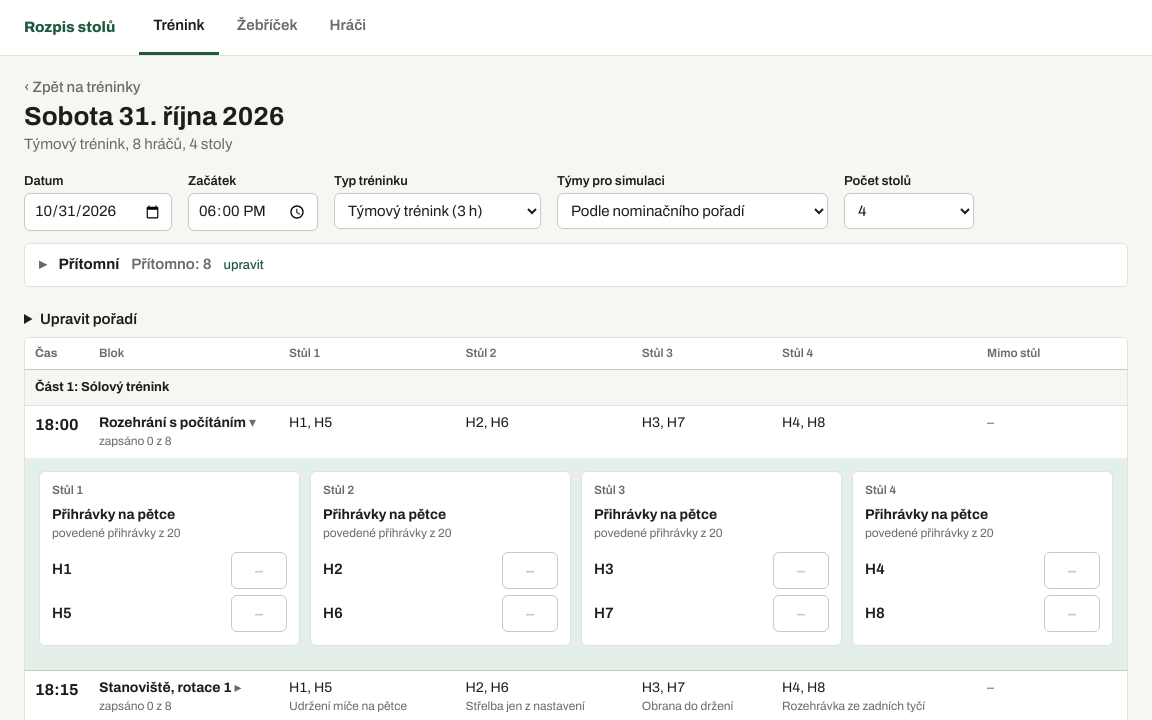
Test case: tabulka tréninku › nápověda je všude stejná a sbalená: jedna rozbalovací „Nápověda“ pod kartami
Click the button "Stanoviště, rotace 1" at (170, 688), box x1=99 y1=678 x2=242 y2=698
(page scrolled)
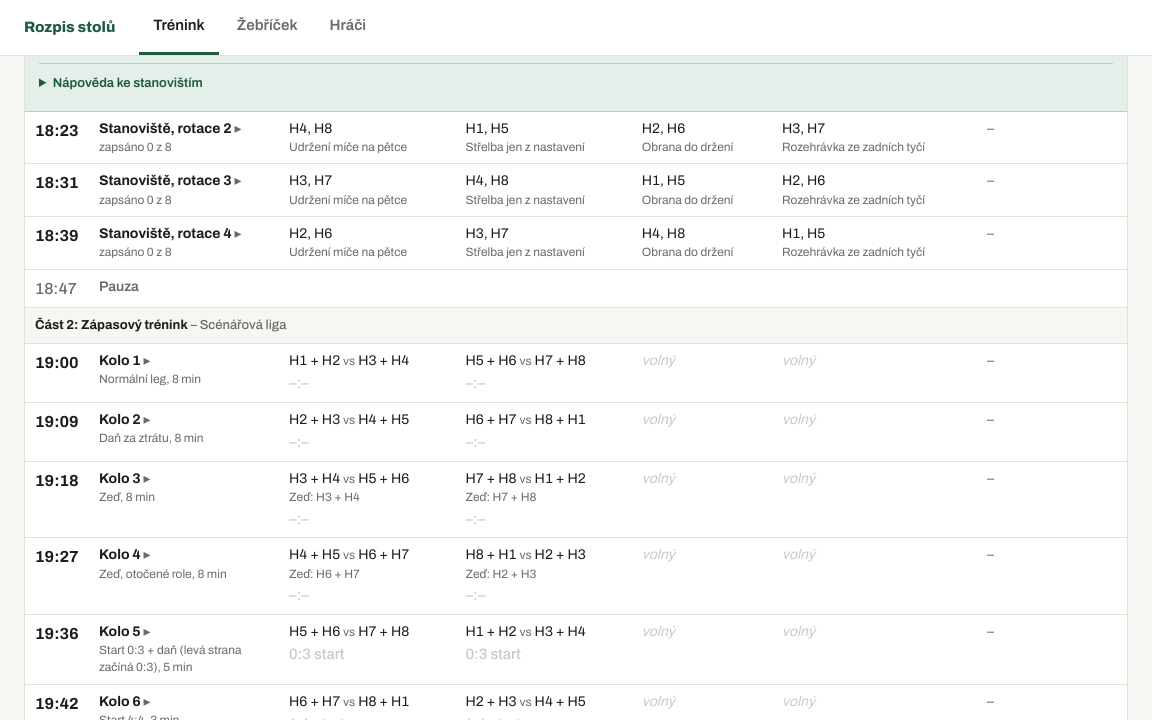
Check: the heading "Nápověda ke stanovištím" is shown, box x1=53 y1=76 x2=203 y2=90
Click the button "Kolo 1" at (125, 361), box x1=99 y1=351 x2=151 y2=371
(page scrolled)
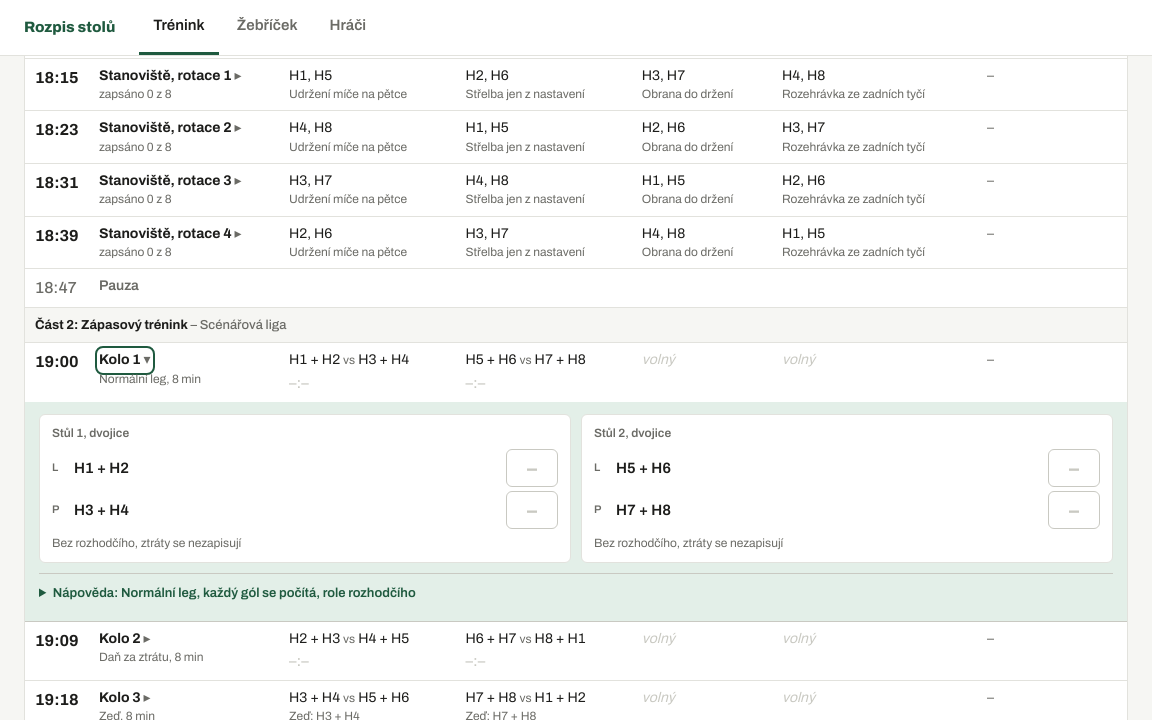
Check: the heading "Nápověda: Normální leg, každý gól se počítá, role rozhodčího" is shown, box x1=53 y1=586 x2=416 y2=600
